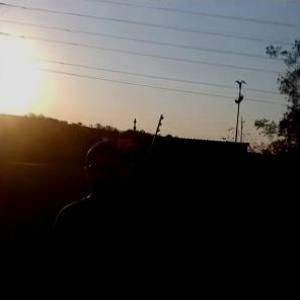follow: (43, 135, 157, 299)
